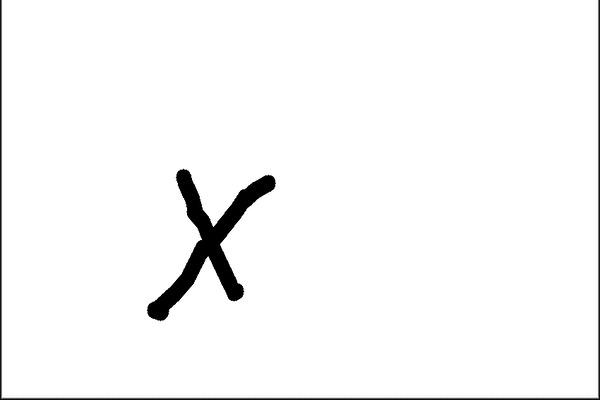X: (130, 151, 297, 339)
